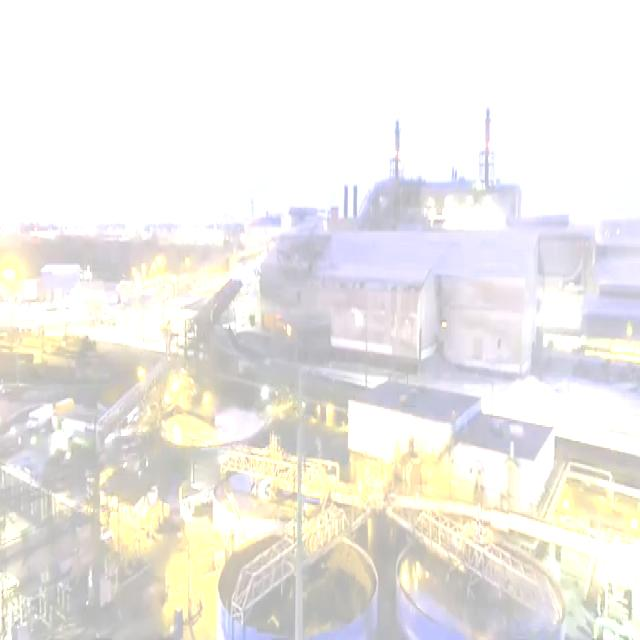smoke: (453, 11, 583, 183), (266, 107, 361, 215), (393, 78, 437, 172)
